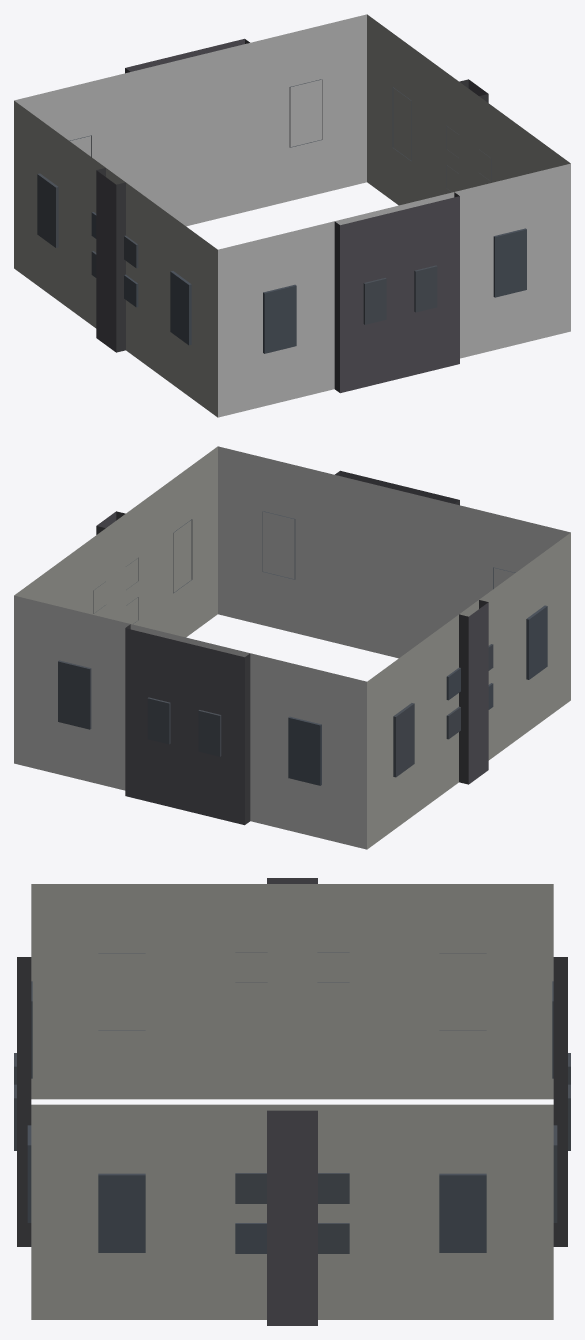
File: TB_CITY_Skysc_Q_UpperBodyA_Gray.FBX
The picture shows the model from 3 angles, top to bottom: view 1: azimuth 30°, elevation 25°; view 2: azimuth 150°, elevation 25°; view 3: azimuth 270°, elevation 25°; orthographic projection. The views are drawn at different scales.
Visible parts, largest first — view 1: TB_CITY_Skysc_Q_UpperBodyA_Gray; view 2: TB_CITY_Skysc_Q_UpperBodyA_Gray; view 3: TB_CITY_Skysc_Q_UpperBodyA_Gray.
Part boxes in pixels (left/top/right/bottom): TB_CITY_Skysc_Q_UpperBodyA_Gray: left=14, top=14, right=570, bottom=417; TB_CITY_Skysc_Q_UpperBodyA_Gray: left=14, top=446, right=570, bottom=849; TB_CITY_Skysc_Q_UpperBodyA_Gray: left=14, top=878, right=570, bottom=1325.
Size of the model in its own units: 11.6 by 5 by 11.73.
